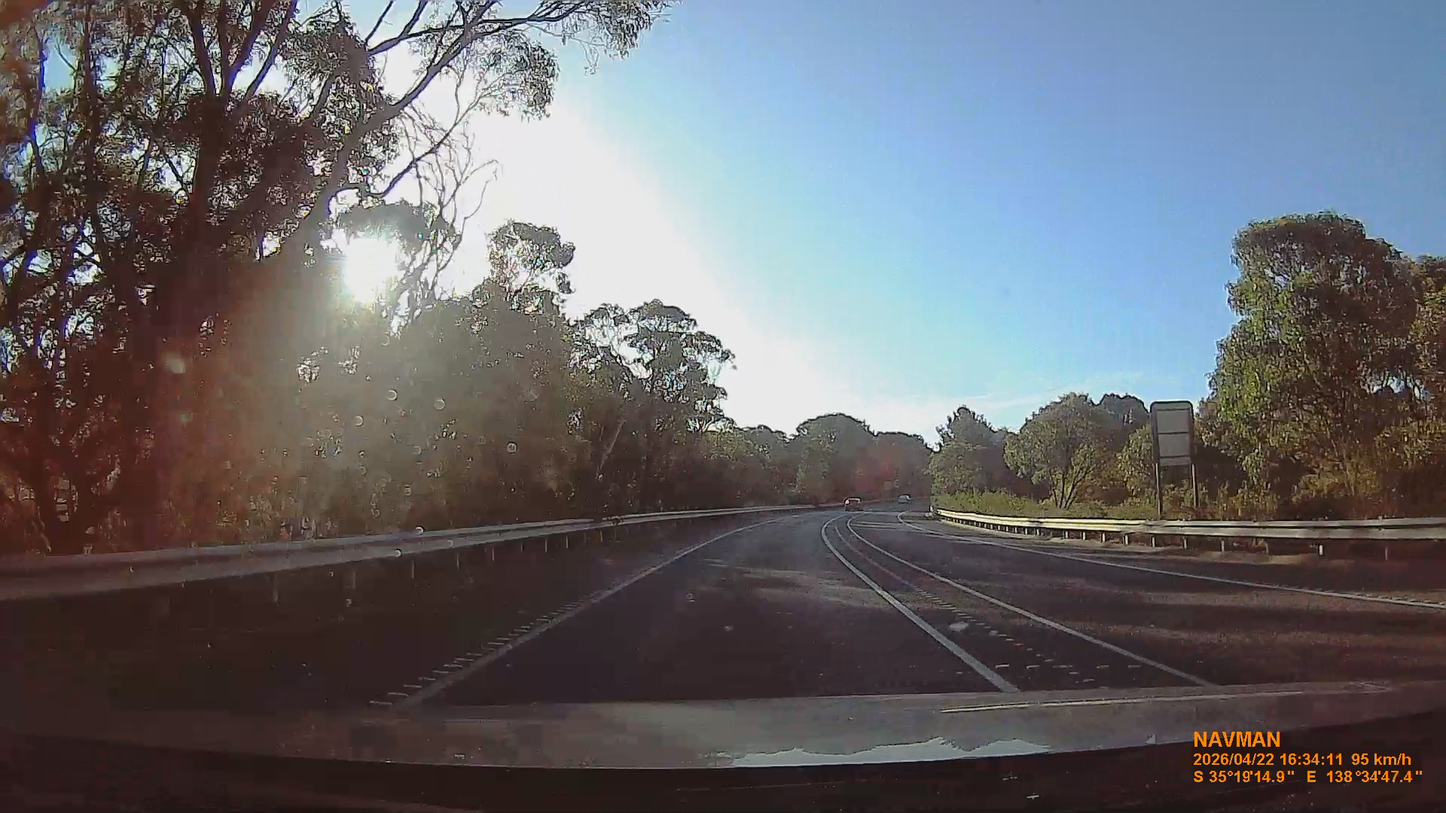road barriers: (0, 507, 789, 603), (933, 510, 1445, 560)
